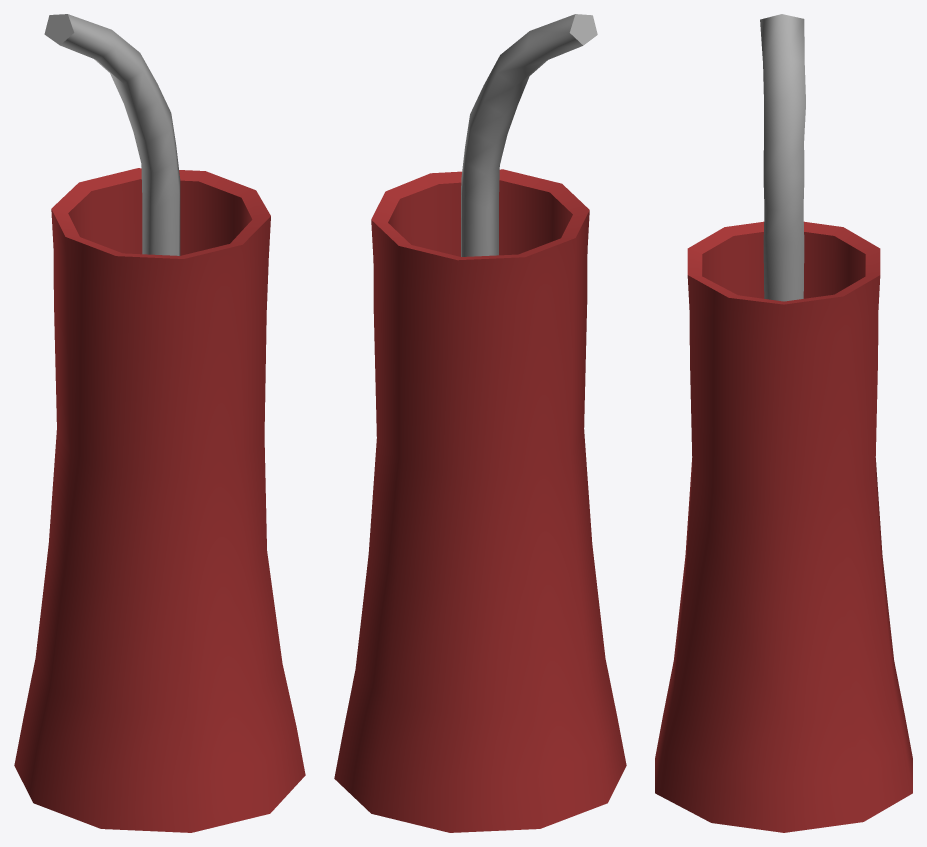
Rendered from firecrackerLarge.fbx.
3 renders of one model, left to right at view 1: azimuth 30°, elevation 25°; view 2: azimuth 150°, elevation 25°; view 3: azimuth 270°, elevation 25°, orthographic. The views are drawn at different scales.
Visible parts, largest first — view 1: pasted__pCylinder1, pCylinder2; view 2: pasted__pCylinder1, pCylinder2; view 3: pasted__pCylinder1, pCylinder2.
Boxes of the visible parts, x1=… form: pasted__pCylinder1: x1=14, y1=168, x2=305, y2=832; pCylinder2: x1=44, y1=14, x2=180, y2=255; pasted__pCylinder1: x1=334, y1=169, x2=626, y2=832; pCylinder2: x1=461, y1=14, x2=597, y2=256; pasted__pCylinder1: x1=655, y1=221, x2=912, y2=832; pCylinder2: x1=760, y1=14, x2=805, y2=301.
Size of the model in its own units: 1.94 by 5.68 by 1.84.
